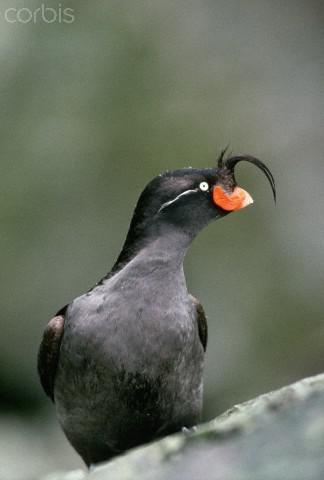005.Crested_Auklet: (35, 145, 283, 471)
